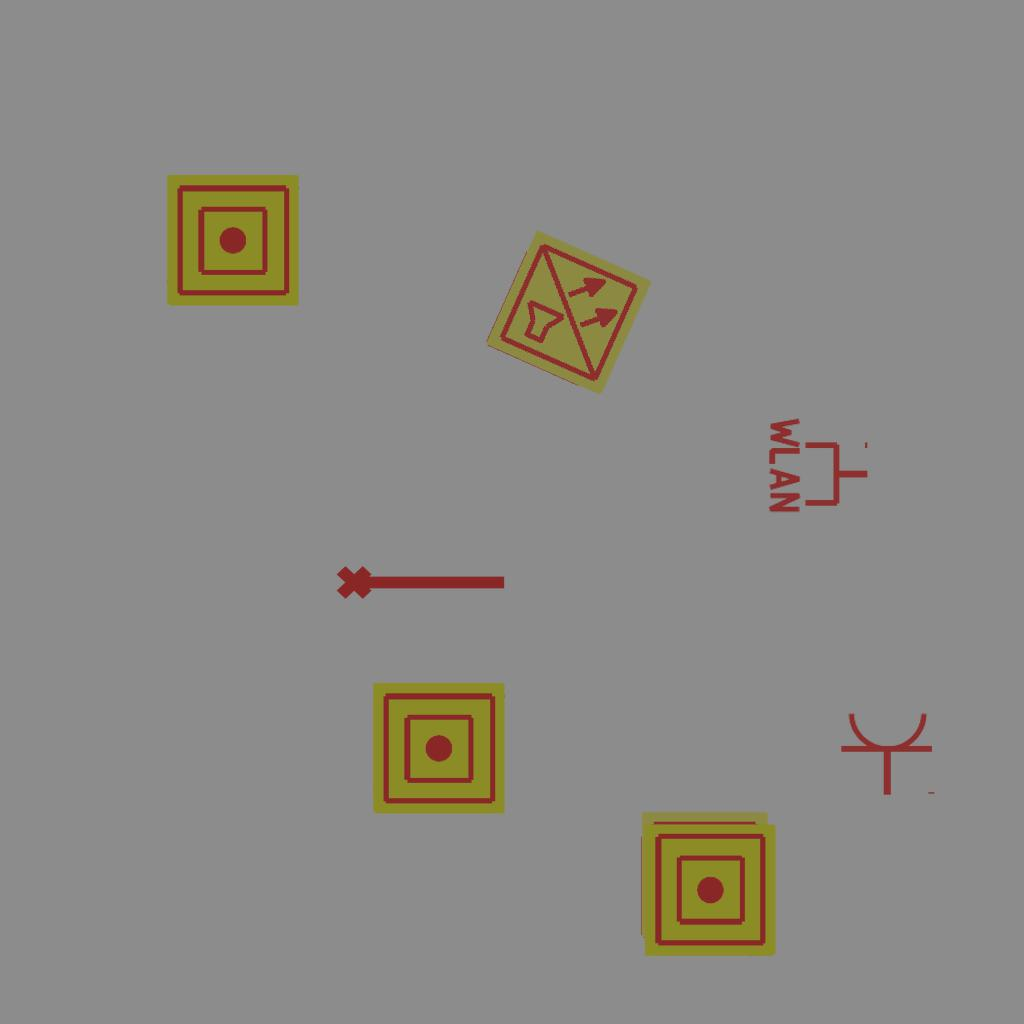ASR_Ansaugoeffnung: (334, 557, 510, 603)
NAM-Nichtautomatischer_Melder: (373, 682, 505, 814), (167, 174, 299, 306), (644, 824, 776, 956)
OKW_Multisensormelder_(Kombination_optischer_Rauch-Kahlenmonoxid_Waerme-Melder): (481, 225, 657, 401), (639, 809, 771, 941)
Schukosteckdose_einfach: (839, 710, 939, 797)
WLAN: (767, 413, 872, 517)
